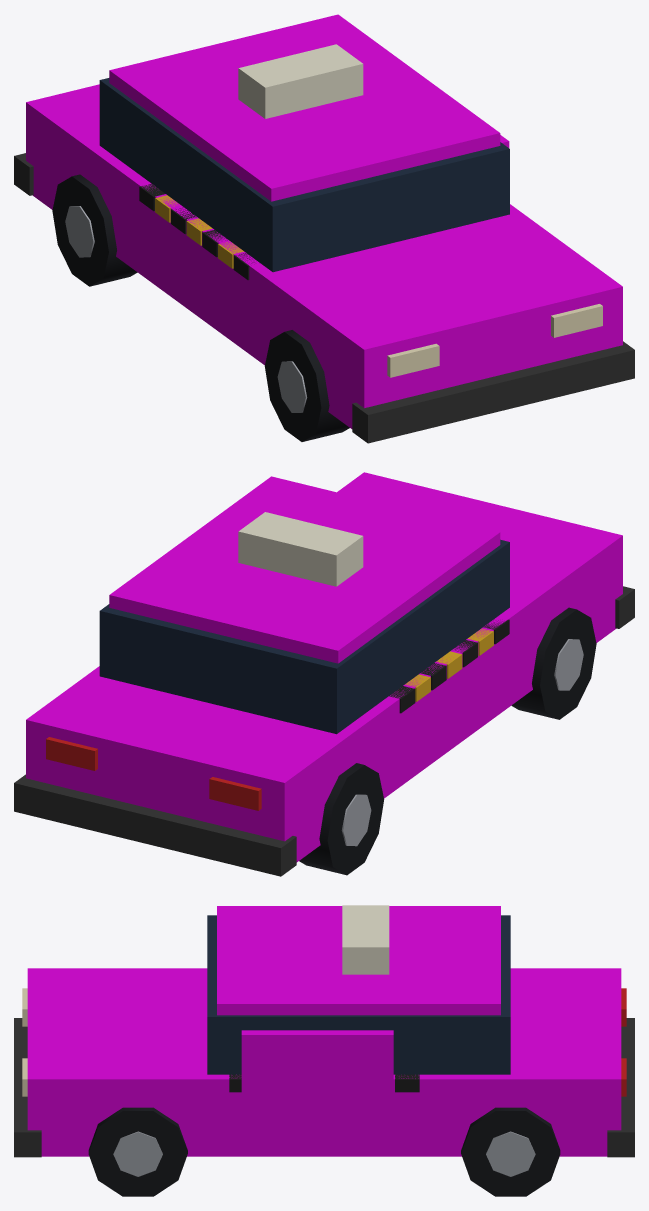
Rendered from taxi.glb.
3 views of the same model, one above another, from view 1: azimuth 30°, elevation 25°; view 2: azimuth 150°, elevation 25°; view 3: azimuth 270°, elevation 25° (orthographic). The views are drawn at different scales.
Visible parts, largest first — view 1: body; view 2: body; view 3: body, door.
Part boxes in pixels (left/top/right/bottom): body: left=14, top=14, right=634, bottom=443; body: left=14, top=472, right=634, bottom=876; body: left=14, top=905, right=634, bottom=1196; door: left=241, top=1030, right=393, bottom=1150.
Size of what is drawn, in the model's own units: 2.04 by 1.69 by 4.5.
